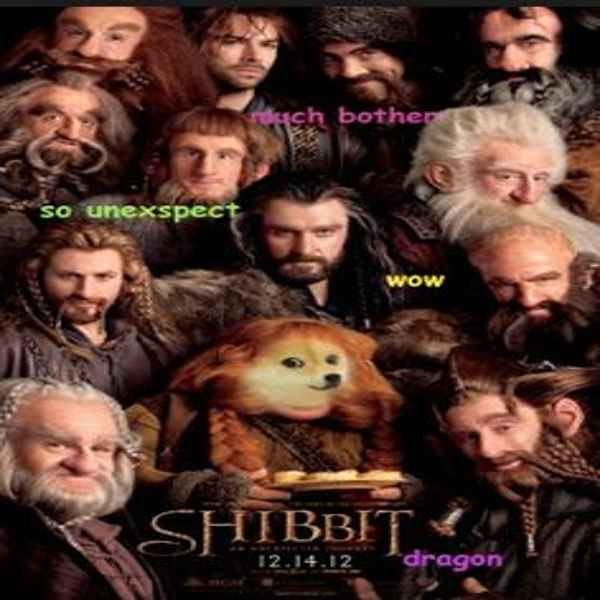doge: (252, 339, 351, 414)
